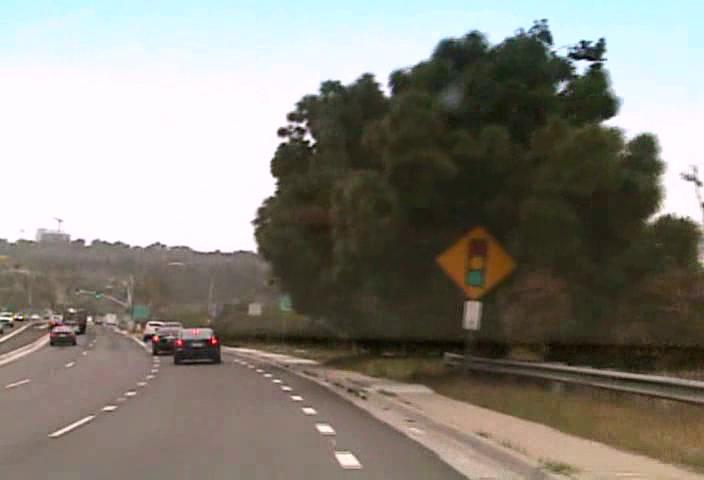signalAhead: (434, 223, 518, 300)
